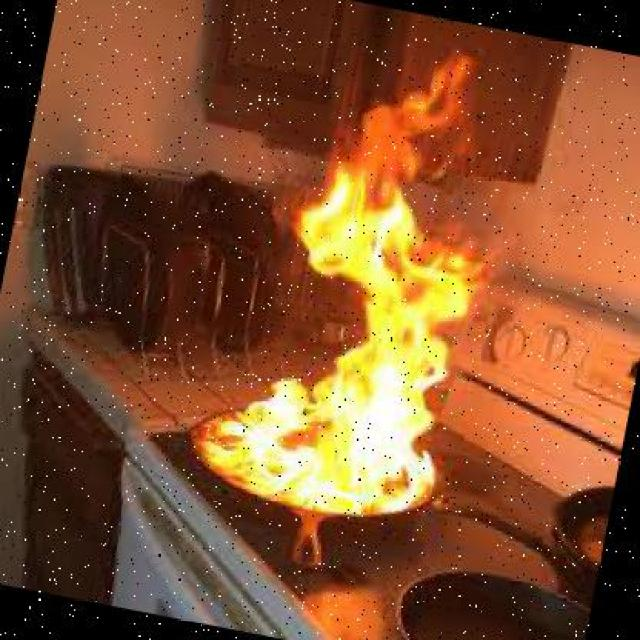fire: (194, 34, 566, 540)
